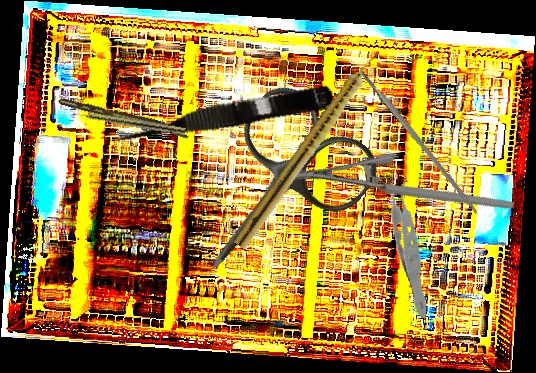Handpiece: (232, 50, 383, 253), (68, 107, 186, 136)
Iris Scissors: (157, 75, 389, 313)
Micro Scissor: (103, 78, 337, 152)
Needle Holder: (279, 101, 515, 281)
Scalpel Handle: (357, 66, 481, 216)
Tissue Forceps: (350, 164, 473, 320), (58, 91, 191, 143)
